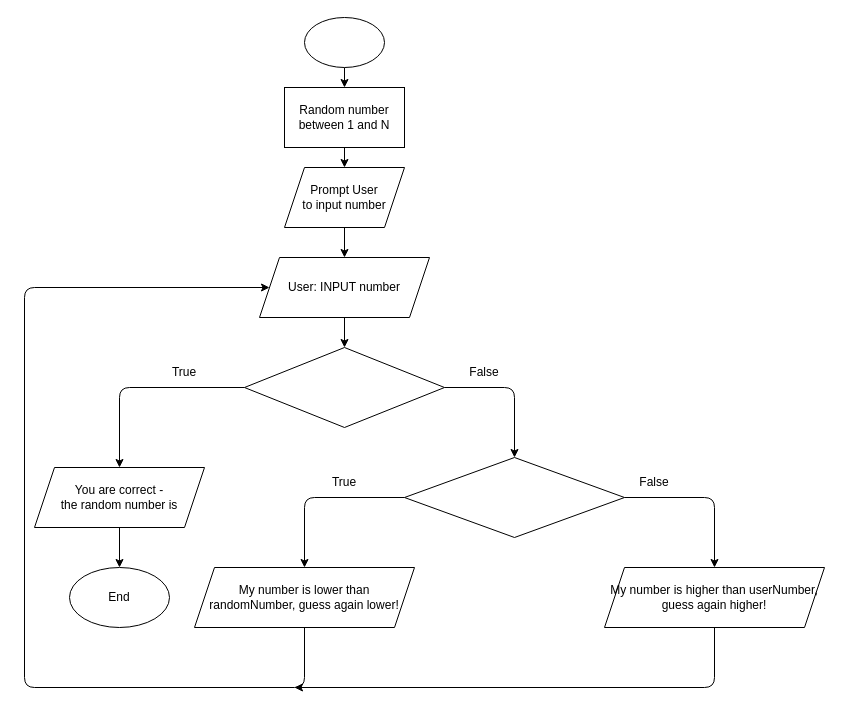
This 842x713 diagram has some shape labels left out. The box of each missing label's shape, as (x1, y1, x2, y2) in pixels:
check if userNumber = randomNumber: (244, 346, 444, 428)
Check if userNumber > randomNumber: (404, 456, 624, 538)
start: (304, 16, 384, 68)
